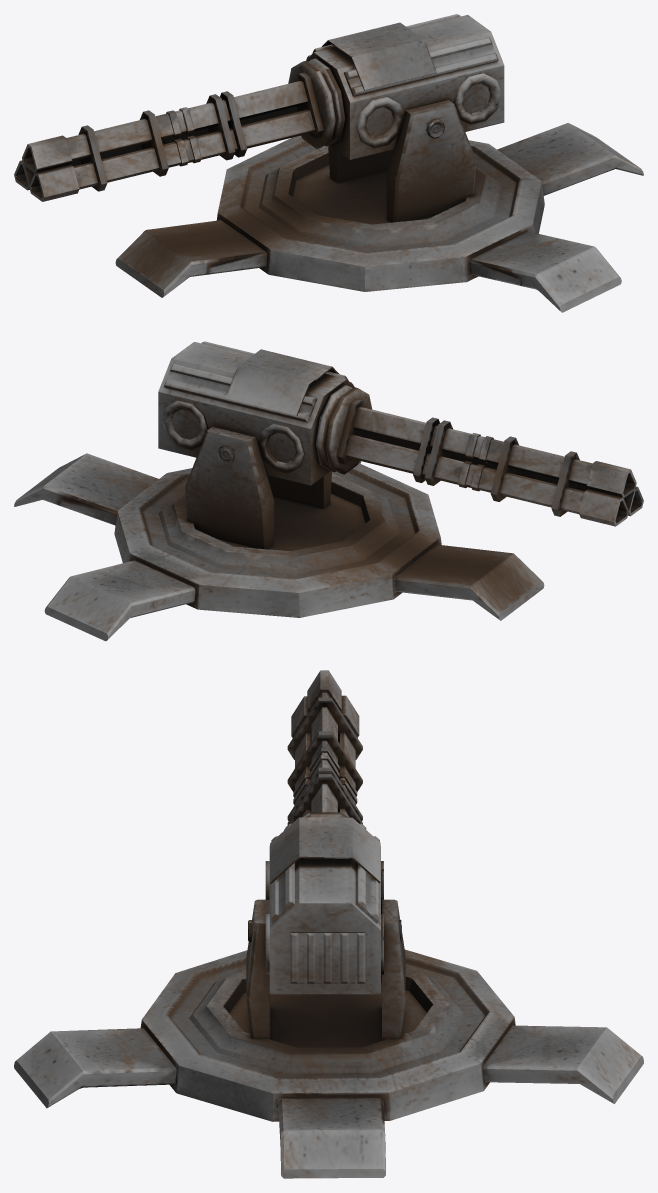
The model's file is laser multi11.fbx.
The picture shows the model from 3 angles, top to bottom: view 1: azimuth 30°, elevation 25°; view 2: azimuth 150°, elevation 25°; view 3: azimuth 270°, elevation 25°; orthographic projection. The views are drawn at different scales.
Visible parts, largest first — view 1: Cylinder002; view 2: Cylinder002; view 3: Cylinder002.
Boxes of the visible parts, box(x1,y1,x2,y2) form: Cylinder002: box(14, 14, 643, 312); Cylinder002: box(14, 341, 643, 641); Cylinder002: box(14, 670, 643, 1178).
Size of the model in its own units: 44.29 by 13.02 by 36.17.
